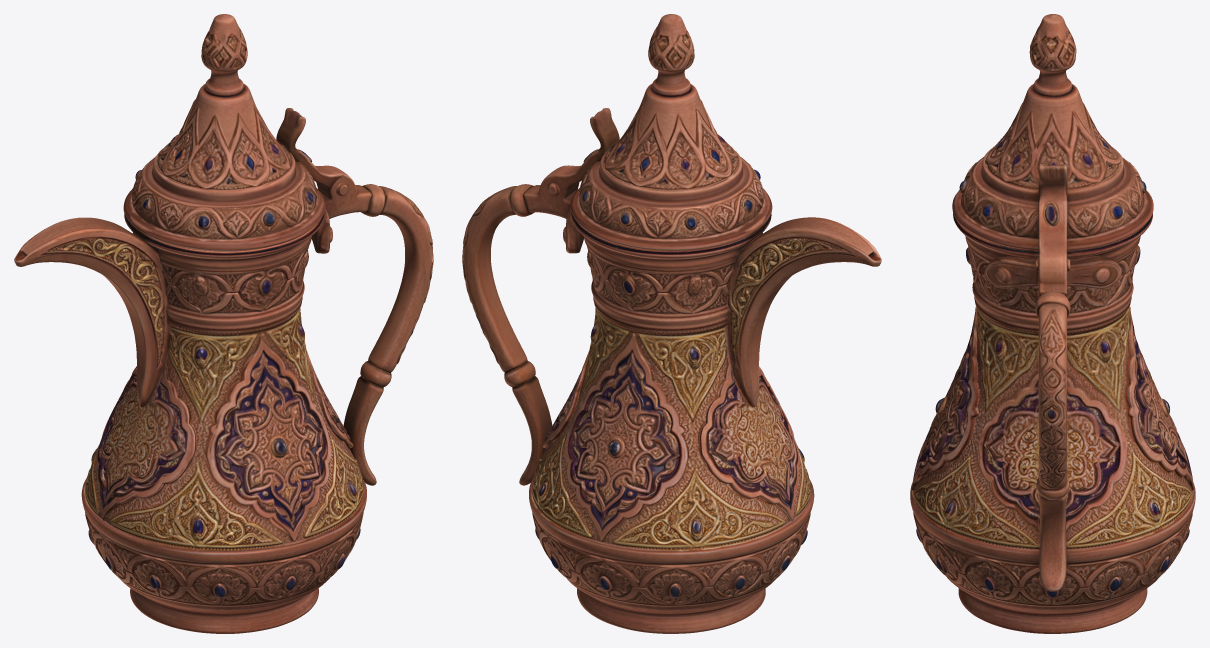
File: tripo_convert_831d69ce-0536-42a8-b470-7a7e27e0cc86.fbx
3 renders of one model, left to right at view 1: azimuth 30°, elevation 25°; view 2: azimuth 150°, elevation 25°; view 3: azimuth 270°, elevation 25°, orthographic.
Visible parts, largest first — view 1: tripo_node_831d69ce; view 2: tripo_node_831d69ce; view 3: tripo_node_831d69ce.
Boxes of the visible parts, left/top/right/bottom form: tripo_node_831d69ce: left=14, top=14, right=433, bottom=633; tripo_node_831d69ce: left=462, top=14, right=881, bottom=633; tripo_node_831d69ce: left=910, top=14, right=1195, bottom=633.
Size of the model in its own units: 0.7501 by 1 by 0.4456.
